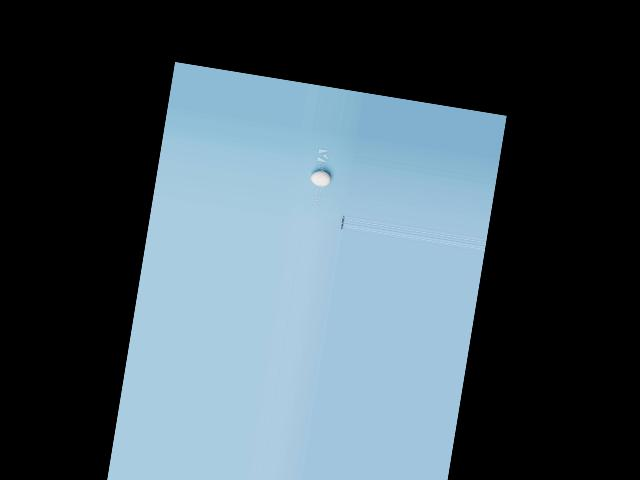egg: (310, 169, 331, 187)
